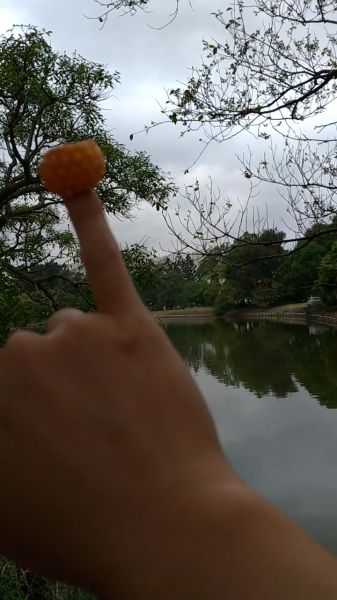eggs: (38, 140, 106, 194)
